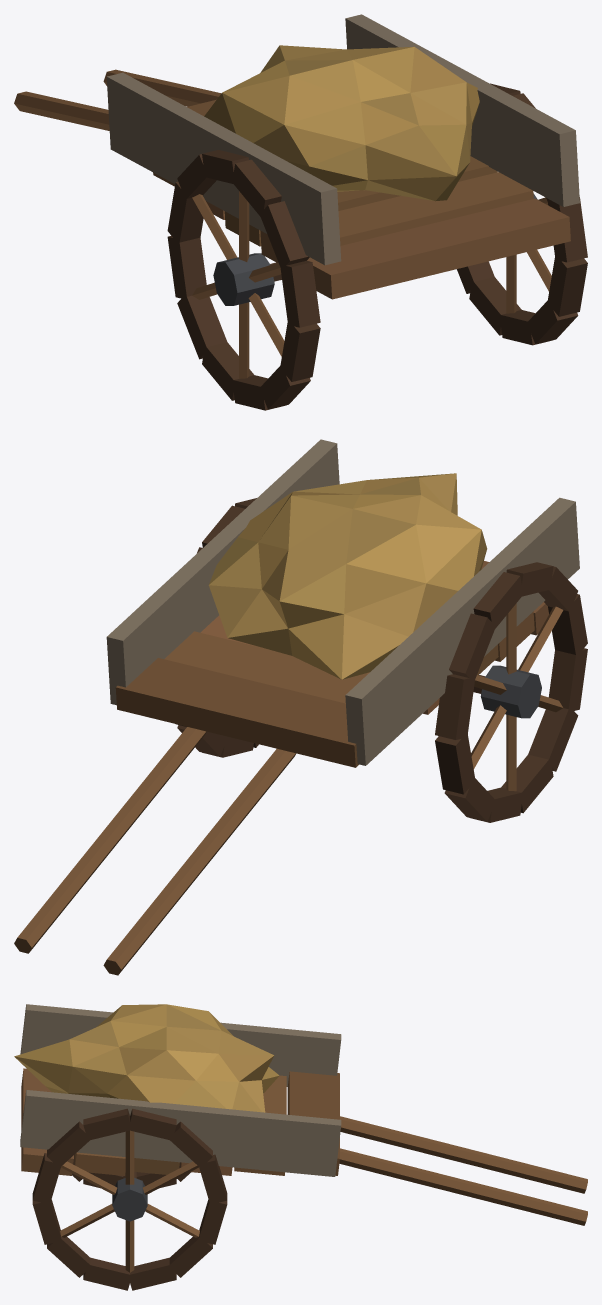
File: Prop_Cart.glb
3 renders of one model, top to bottom at view 1: azimuth 30°, elevation 25°; view 2: azimuth 150°, elevation 25°; view 3: azimuth 270°, elevation 25°, orthographic. The views are drawn at different scales.
Visible parts, largest first — view 1: Mat_Wood_7c5a3b, Mat_Wood_483222, Mat_Wood_63452d, Mat_Thatch_b28f4f, Mat_Thatch_a48449, Mat_Metal_424448; view 2: Mat_Wood_7c5a3b, Mat_Thatch_b28f4f, Mat_Wood_63452d, Mat_Thatch_a48449, Mat_Wood_483222, Mat_Metal_424448; view 3: Mat_Wood_7c5a3b, Mat_Thatch_a48449, Mat_Wood_63452d, Mat_Thatch_b28f4f, Mat_Wood_483222, Mat_Metal_424448.
Part boxes in pixels (x1,y1,x2,y2): Mat_Wood_7c5a3b: (14, 14, 579, 313); Mat_Wood_483222: (167, 93, 587, 410); Mat_Wood_63452d: (187, 83, 570, 378); Mat_Thatch_b28f4f: (222, 47, 479, 200); Mat_Thatch_a48449: (204, 45, 478, 201); Mat_Metal_424448: (213, 194, 537, 305); Mat_Wood_7c5a3b: (14, 439, 579, 975); Mat_Thatch_b28f4f: (209, 474, 481, 679); Mat_Wood_63452d: (115, 505, 563, 791); Mat_Thatch_a48449: (209, 473, 487, 655); Mat_Wood_483222: (235, 498, 587, 822); Mat_Metal_424448: (480, 665, 541, 718); Mat_Wood_7c5a3b: (20, 1004, 587, 1272); Mat_Thatch_a48449: (14, 1004, 274, 1112); Mat_Wood_63452d: (21, 1068, 339, 1290); Mat_Thatch_b28f4f: (15, 1004, 279, 1112); Mat_Wood_483222: (32, 1108, 190, 1290); Mat_Metal_424448: (112, 1178, 147, 1221).
Size of the model in its own units: 4.08 by 3.7 by 9.06.
1 material, 1 textured.
